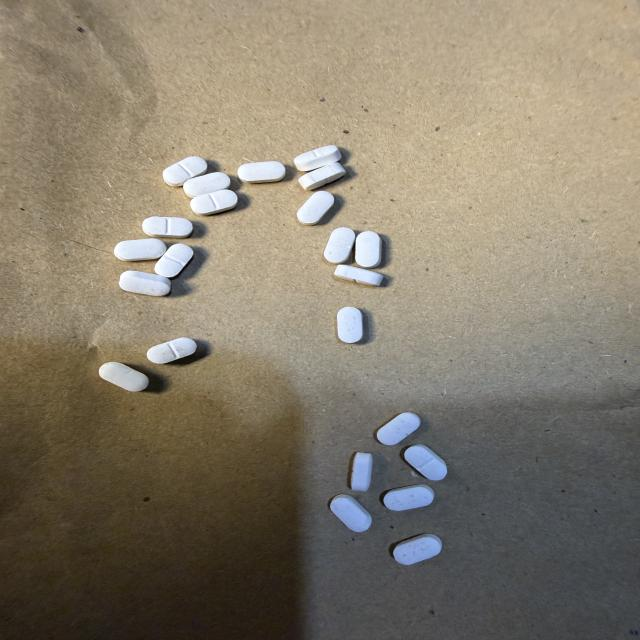pill: (330, 495, 371, 532), (404, 445, 446, 480), (394, 534, 441, 565), (376, 412, 420, 445), (99, 362, 148, 391), (119, 271, 171, 296), (163, 157, 207, 186), (383, 485, 434, 510), (155, 244, 193, 277), (147, 338, 197, 363), (299, 163, 345, 190), (294, 145, 341, 171), (297, 192, 334, 225), (191, 190, 237, 215), (114, 239, 166, 261), (183, 173, 230, 197), (324, 228, 355, 264), (238, 161, 285, 183), (143, 217, 192, 238), (334, 265, 383, 286), (355, 231, 382, 268), (337, 307, 363, 343), (350, 452, 373, 491)
